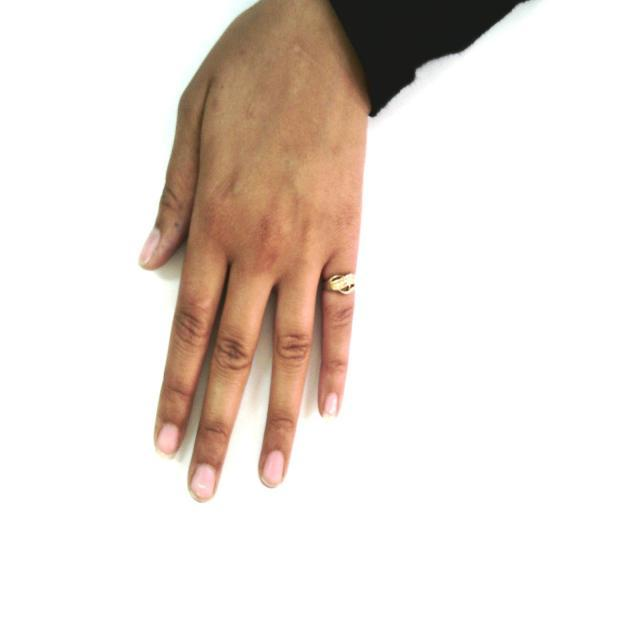Fingernail: (192, 464, 215, 499), (158, 425, 180, 454), (264, 451, 283, 484), (140, 230, 158, 263), (324, 393, 338, 418)
